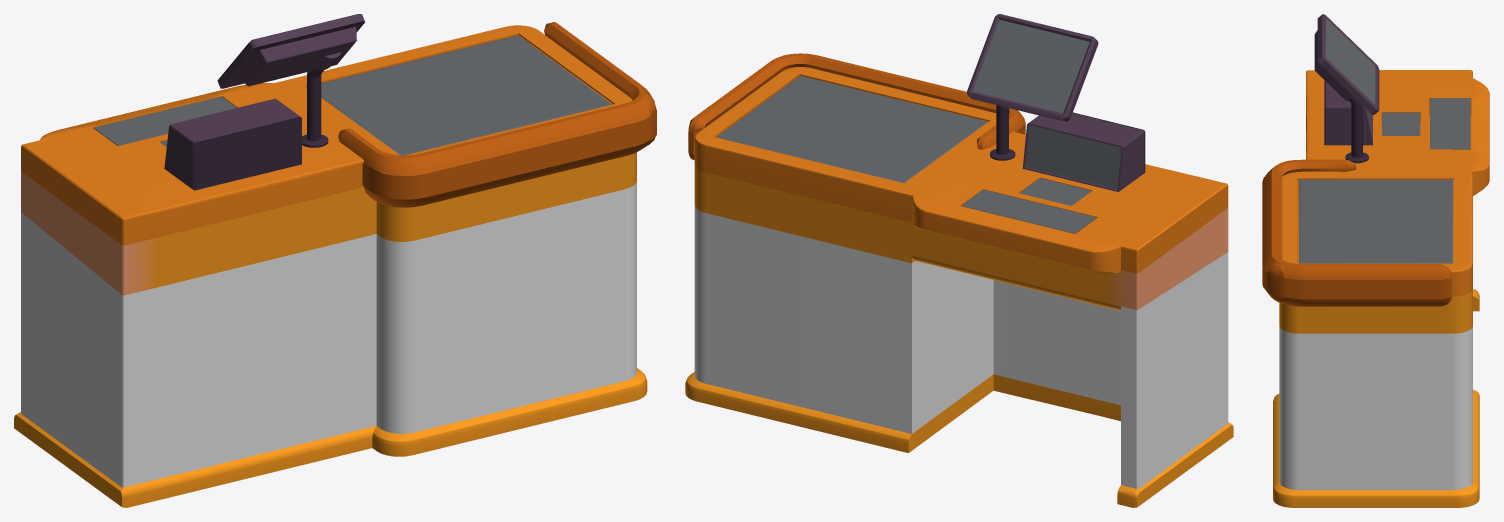
Rendered from Cashier.fbx.
3 views of the same model, side by side, from view 1: azimuth 30°, elevation 25°; view 2: azimuth 150°, elevation 25°; view 3: azimuth 270°, elevation 25° (orthographic). The views are drawn at different scales.
Visible parts, largest first — view 1: cash_register; view 2: cash_register; view 3: cash_register.
Boxes of the visible parts, x1=… form: cash_register: x1=14, y1=14, x2=656, y2=507; cash_register: x1=685, y1=14, x2=1233, y2=507; cash_register: x1=1262, y1=14, x2=1489, y2=507.
Size of the model in its own units: 153 by 118 by 70.35.
